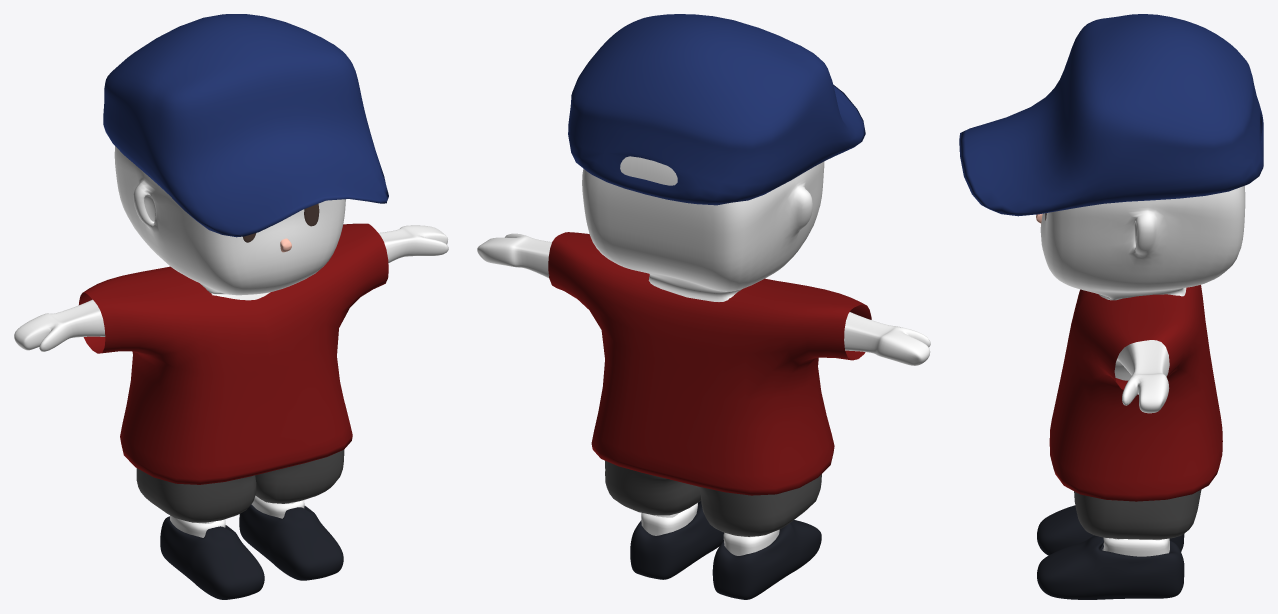
File: chico_vestimenta_basica.fbx
3 renders of one model, left to right at view 1: azimuth 30°, elevation 25°; view 2: azimuth 150°, elevation 25°; view 3: azimuth 270°, elevation 25°, orthographic. The views are drawn at different scales.
Visible parts, largest first — view 1: Camiseta, Gorra, Cuerpo, Zapatillas, Jorts, Calcetines; view 2: Camiseta, Gorra, Cuerpo, Zapatillas, Jorts, Calcetines; view 3: Gorra, Camiseta, Cuerpo, Zapatillas, Jorts, Calcetines.
Boxes of the visible parts, x1,y1,x2,y2 form: Camiseta: [79, 223, 388, 484]; Gorra: [103, 14, 388, 237]; Cuerpo: [14, 146, 448, 523]; Zapatillas: [160, 504, 343, 599]; Jorts: [136, 450, 344, 522]; Calcetines: [170, 495, 304, 537]; Camiseta: [548, 232, 871, 495]; Gorra: [568, 14, 865, 205]; Cuerpo: [477, 156, 930, 537]; Zapatillas: [630, 501, 821, 599]; Jorts: [605, 460, 821, 536]; Calcetines: [641, 503, 779, 555]; Gorra: [959, 14, 1263, 216]; Camiseta: [1049, 285, 1222, 501]; Cuerpo: [1040, 185, 1245, 550]; Zapatillas: [1037, 505, 1184, 599]; Jorts: [1074, 489, 1201, 539]; Calcetines: [1103, 537, 1169, 556].
Bounding box in the file's own units: 202 × 239 × 122.
